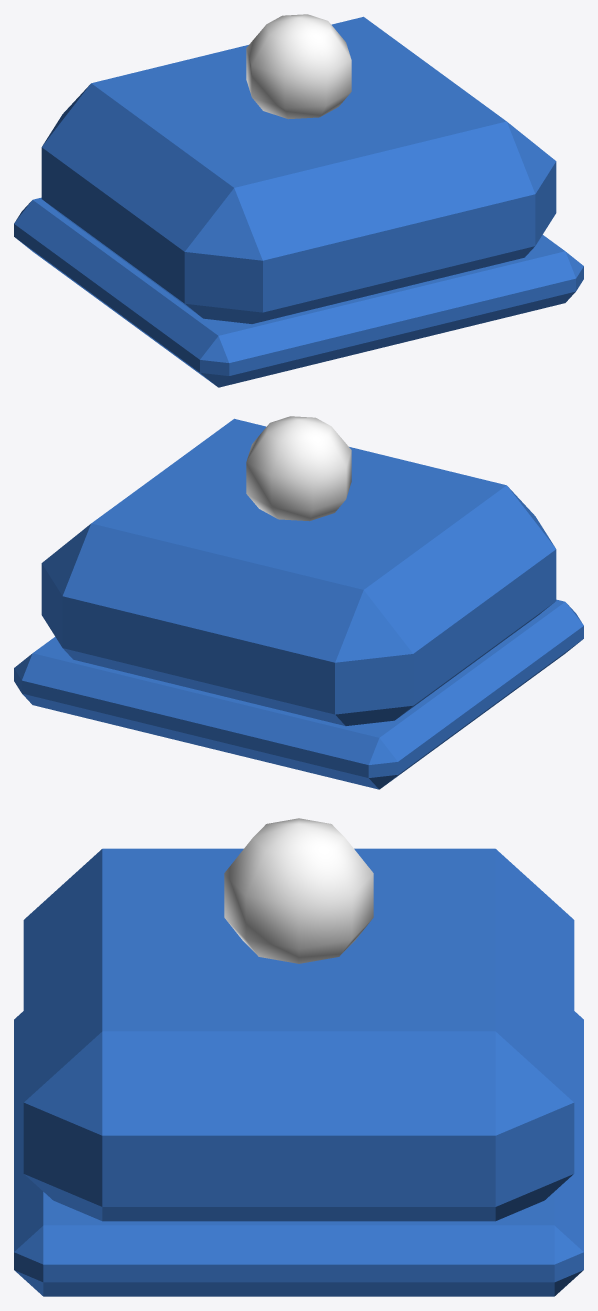
Rendered from acc_beanie.glb.
3 views of the same model, one above another, from view 1: azimuth 30°, elevation 25°; view 2: azimuth 150°, elevation 25°; view 3: azimuth 270°, elevation 25° (orthographic). The views are drawn at different scales.
Visible parts, largest first — view 1: acc_beanie; view 2: acc_beanie; view 3: acc_beanie.
Part boxes in pixels (<box>): acc_beanie: <box>14,14,583,387</box>; acc_beanie: <box>14,416,583,789</box>; acc_beanie: <box>14,818,583,1296</box>.
Bounding box in the file's own units: 0.62 × 0.4 × 0.58.
